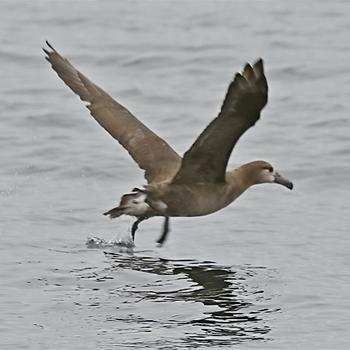bird: (41, 39, 296, 245)
